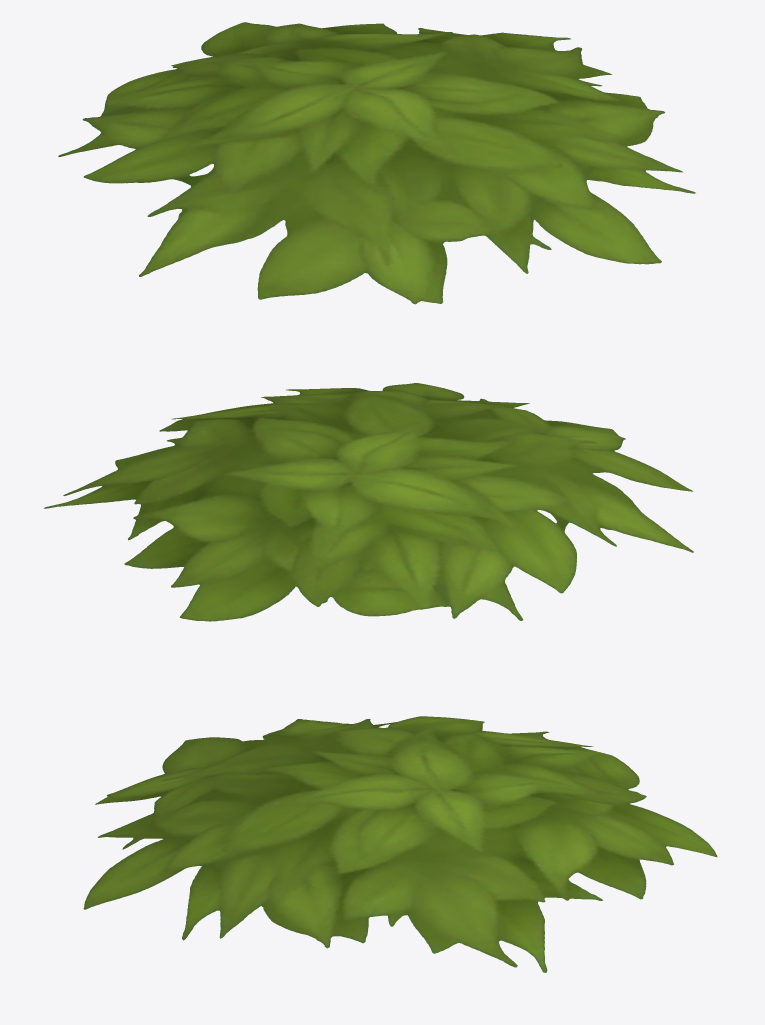
The model's file is map_112_guanmu_2.fbx.
The picture shows the model from 3 angles, top to bottom: view 1: azimuth 30°, elevation 25°; view 2: azimuth 150°, elevation 25°; view 3: azimuth 270°, elevation 25°; orthographic projection. The views are drawn at different scales.
Parts seen in each view (by area): view 1: map_112_shu_12; view 2: map_112_shu_12; view 3: map_112_shu_12.
Boxes of the visible parts, x1=… form: map_112_shu_12: x1=58, y1=22, x2=695, y2=304; map_112_shu_12: x1=44, y1=383, x2=693, y2=621; map_112_shu_12: x1=83, y1=716, x2=717, y2=972.
Bounding box in the file's own units: 1.12 × 0.13 × 1.12.
